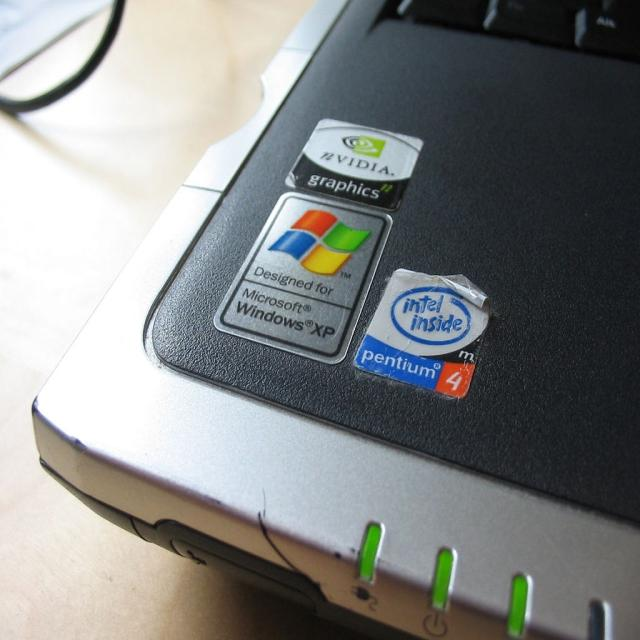nvidia: (343, 134, 386, 160)
